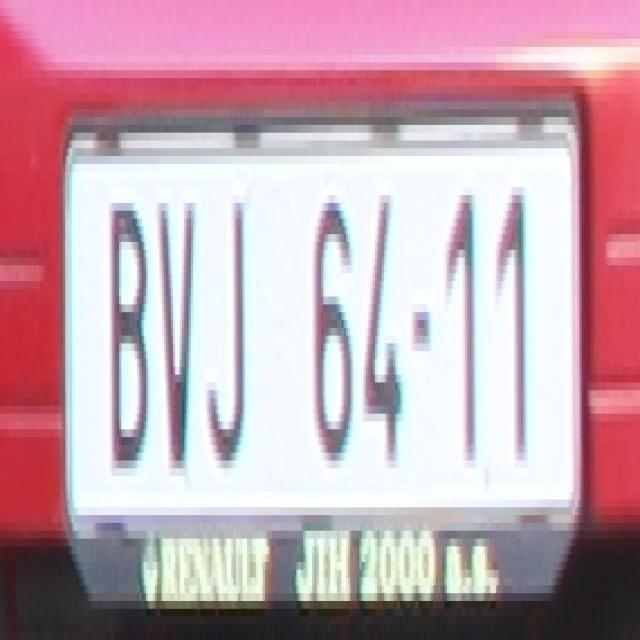1: (442, 188, 480, 460), (494, 164, 528, 468)
4: (362, 188, 404, 460)
6: (308, 188, 354, 460)
B: (105, 195, 148, 468)
V: (152, 195, 194, 468)
